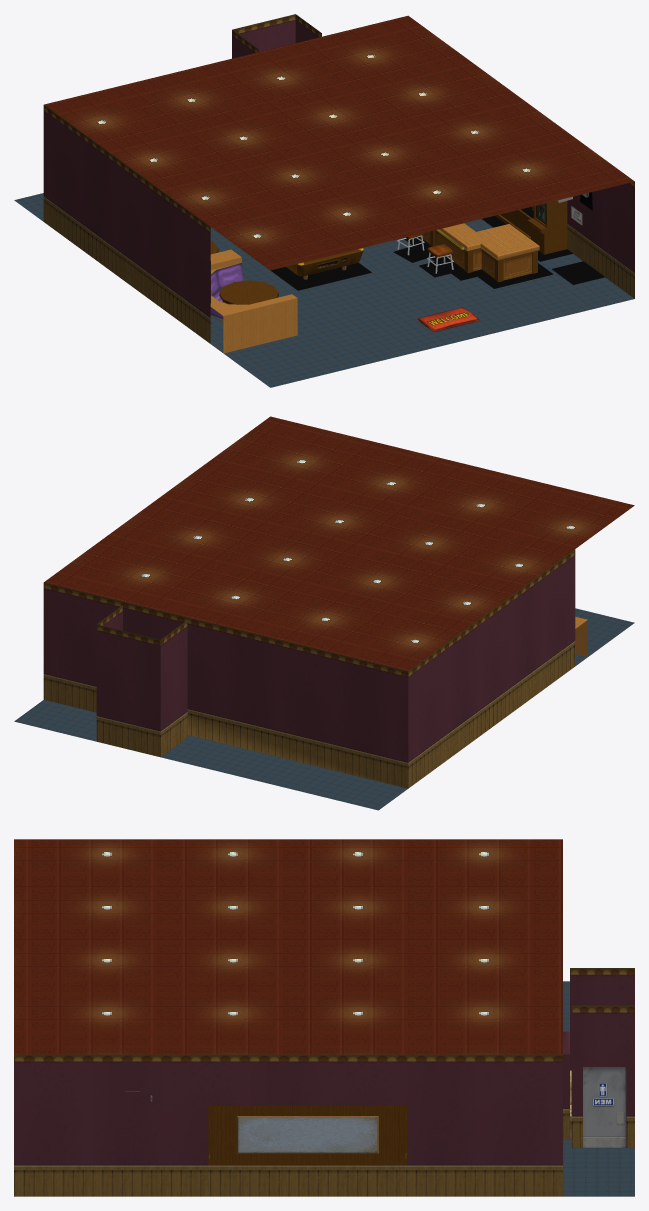
The model's file is moes_simpsons.glb.
3 views of the same model, one above another, from view 1: azimuth 30°, elevation 25°; view 2: azimuth 150°, elevation 25°; view 3: azimuth 270°, elevation 25° (orthographic). The views are drawn at different scales.
Parts seen in each view (by area): view 1: Object_7, Object_26, Object_24, Object_30, Object_29, Object_10, Object_3, Object_13, Object_32; view 2: Object_7, Object_26, Object_24; view 3: Object_7, Object_26, Object_29, Object_15, Object_24, Object_13.
Part boxes in pixels (box(x1,y1,x2,y2)): Object_7: box(44, 15, 634, 270); Object_26: box(43, 14, 634, 343); Object_24: box(14, 193, 634, 387); Object_30: box(210, 223, 539, 353); Object_29: box(210, 200, 567, 304); Object_10: box(270, 192, 605, 290); Object_3: box(420, 230, 531, 280); Object_13: box(210, 203, 546, 318); Object_32: box(417, 307, 479, 331); Object_7: box(44, 416, 634, 671); Object_26: box(43, 549, 575, 788); Object_24: box(14, 608, 634, 810); Object_7: box(14, 839, 562, 1054); Object_26: box(14, 968, 634, 1196); Object_29: box(208, 1105, 406, 1164); Object_15: box(236, 1116, 378, 1153); Object_24: box(563, 981, 634, 1196); Object_13: box(583, 1067, 626, 1147).
Size of the model in its own units: 13.01 by 4.02 by 15.84.
31 materials, 31 textured.
